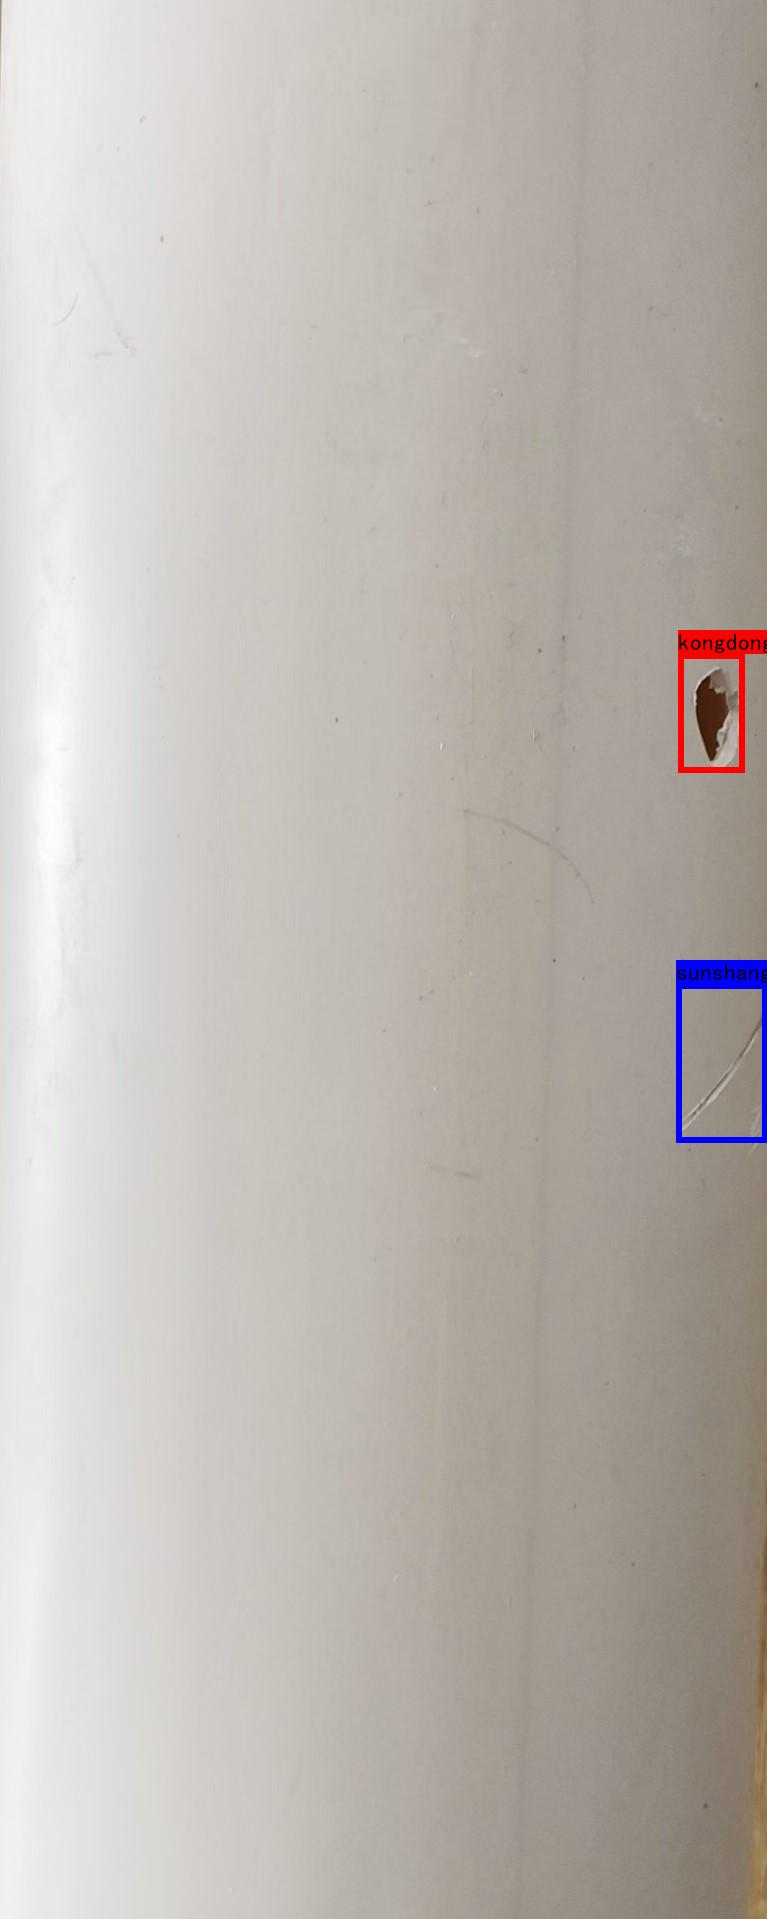kongdong: (683, 663, 746, 780)
